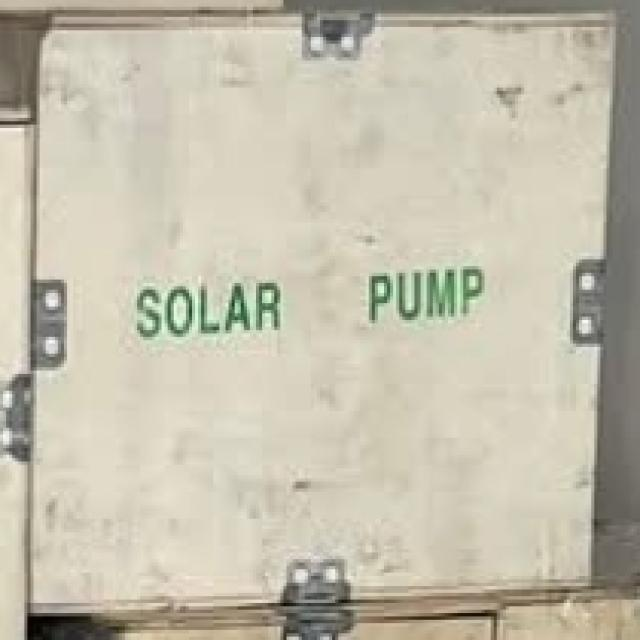wooden_box: (9, 3, 640, 640)
